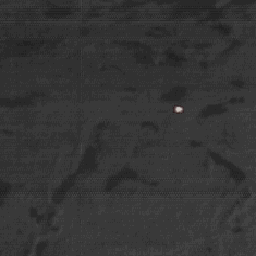Target: (173, 106, 182, 113)
